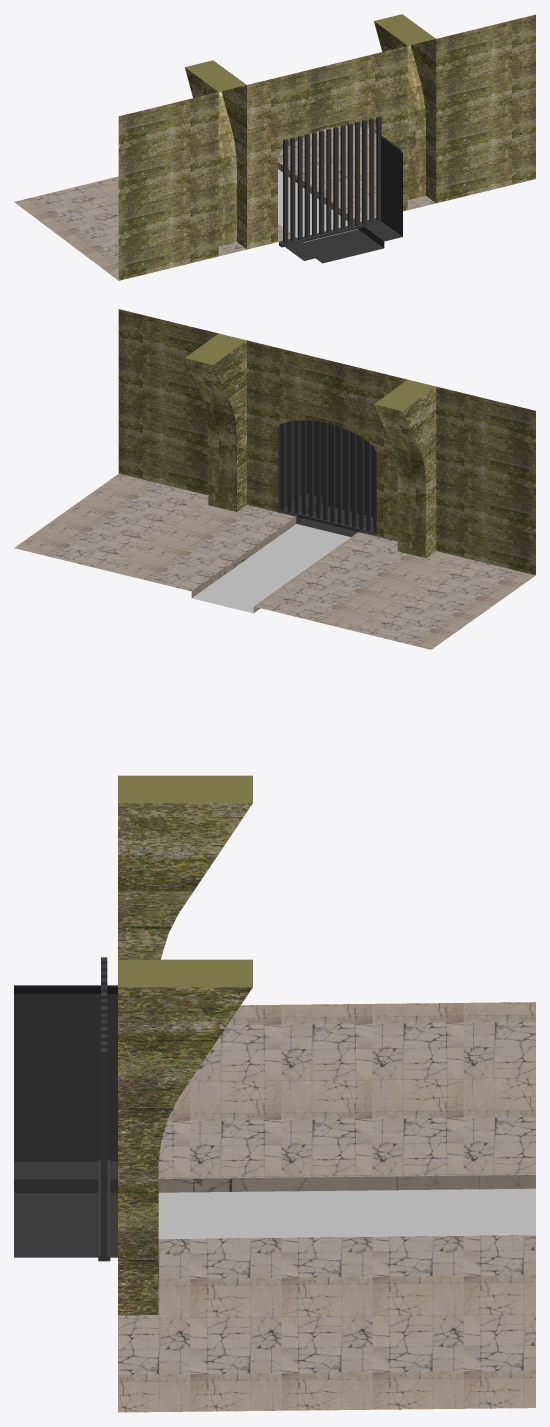
The model's file is san8.fbx.
The picture shows the model from 3 angles, top to bottom: view 1: azimuth 30°, elevation 25°; view 2: azimuth 150°, elevation 25°; view 3: azimuth 270°, elevation 25°; orthographic projection. The views are drawn at different scales.
Visible parts, largest first — view 1: Plane.006, Plane.007; view 2: Plane.006, Plane.007; view 3: Plane.006, Plane.007.
Boxes of the visible parts, x1=… form: Plane.006: x1=14, y1=14, x2=535, y2=280; Plane.007: x1=279, y1=116, x2=381, y2=247; Plane.006: x1=14, y1=309, x2=535, y2=649; Plane.007: x1=280, y1=420, x2=376, y2=534; Plane.006: x1=14, y1=775, x2=535, y2=1412; Plane.007: x1=98, y1=957, x2=110, y2=1261.
Bounding box in the file's own units: 7459 × 2929 × 4054.
